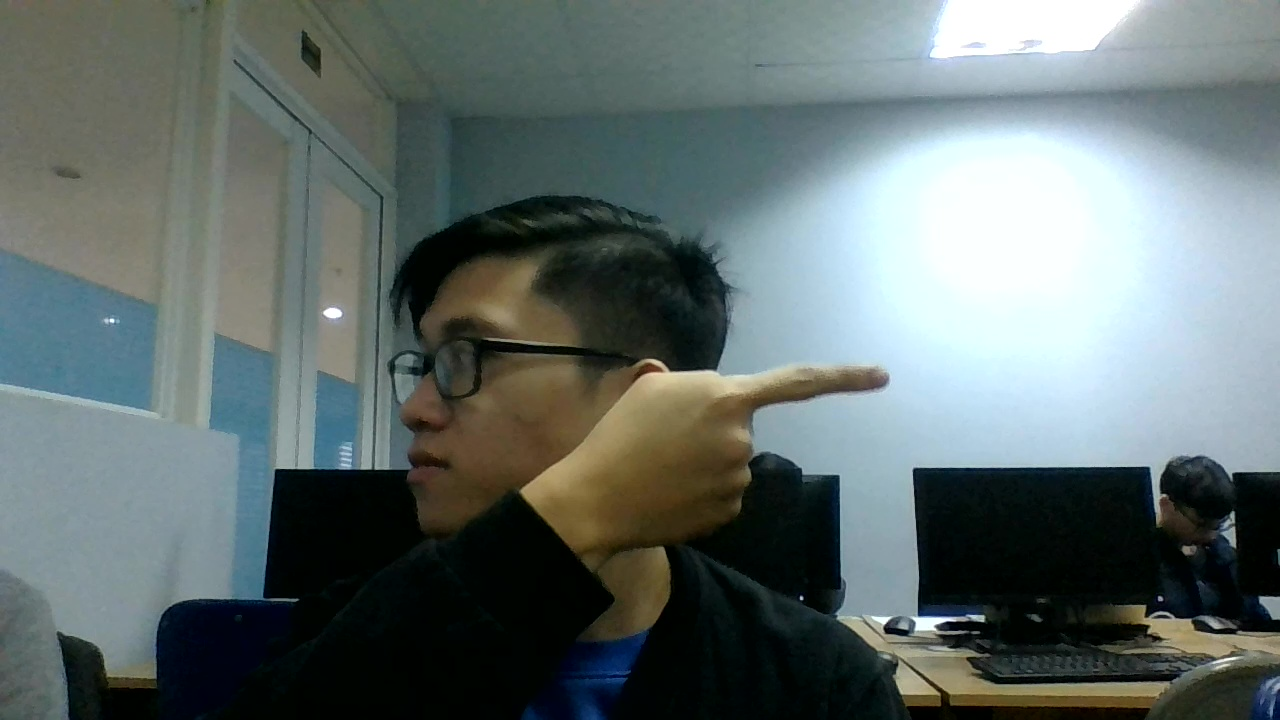left: (576, 357, 895, 563)
